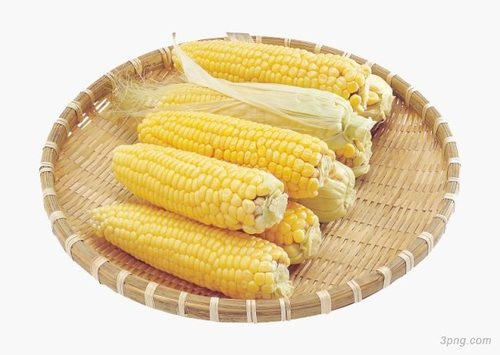corn: (89, 201, 292, 300), (136, 111, 337, 199), (108, 141, 290, 237), (176, 40, 369, 110)
